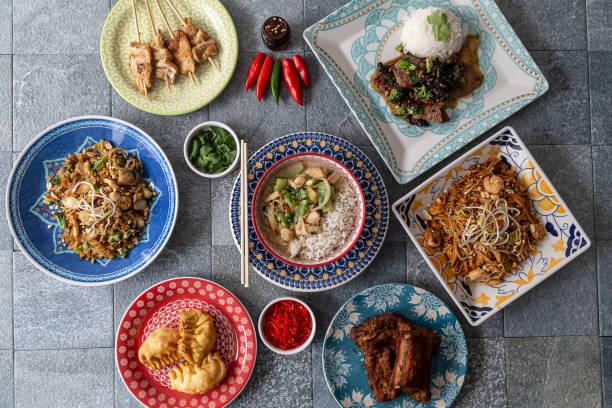Braised Crucian Carp: (309, 0, 560, 167), (390, 124, 592, 325), (5, 114, 176, 284), (234, 131, 384, 290), (116, 276, 256, 406), (321, 282, 464, 406), (99, 0, 235, 117)
